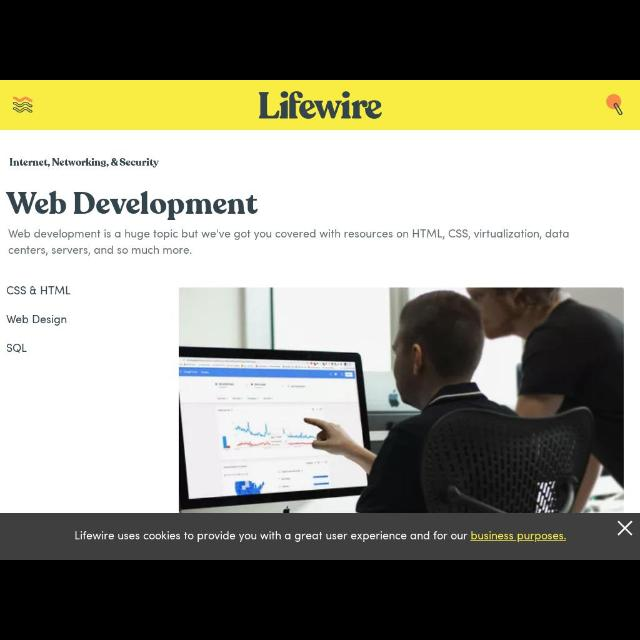icon: (618, 519, 632, 537)
image: (180, 286, 624, 512), (258, 88, 384, 122), (12, 94, 36, 116), (604, 94, 624, 116)
panel: (1, 514, 640, 558)
text: (6, 228, 572, 258), (7, 192, 259, 220), (72, 531, 570, 543), (6, 157, 160, 169), (5, 284, 71, 298), (6, 315, 70, 327), (6, 342, 28, 354)
